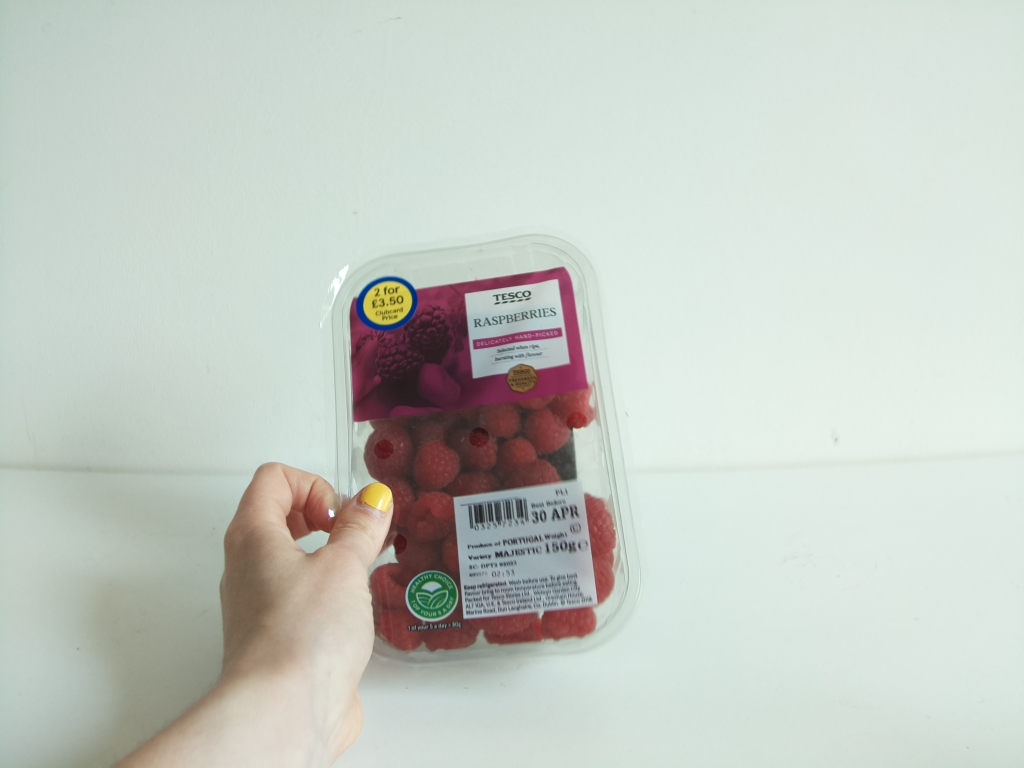soft-fruit: (324, 228, 638, 661)
